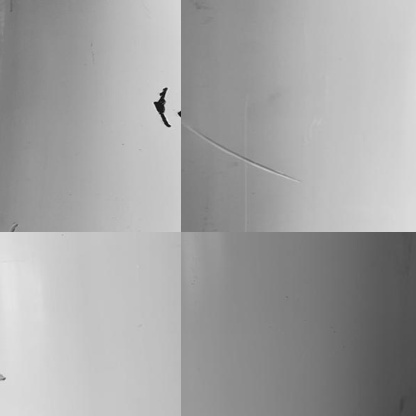kongdong: (152, 85, 173, 129)
sunshang: (182, 119, 304, 187)
